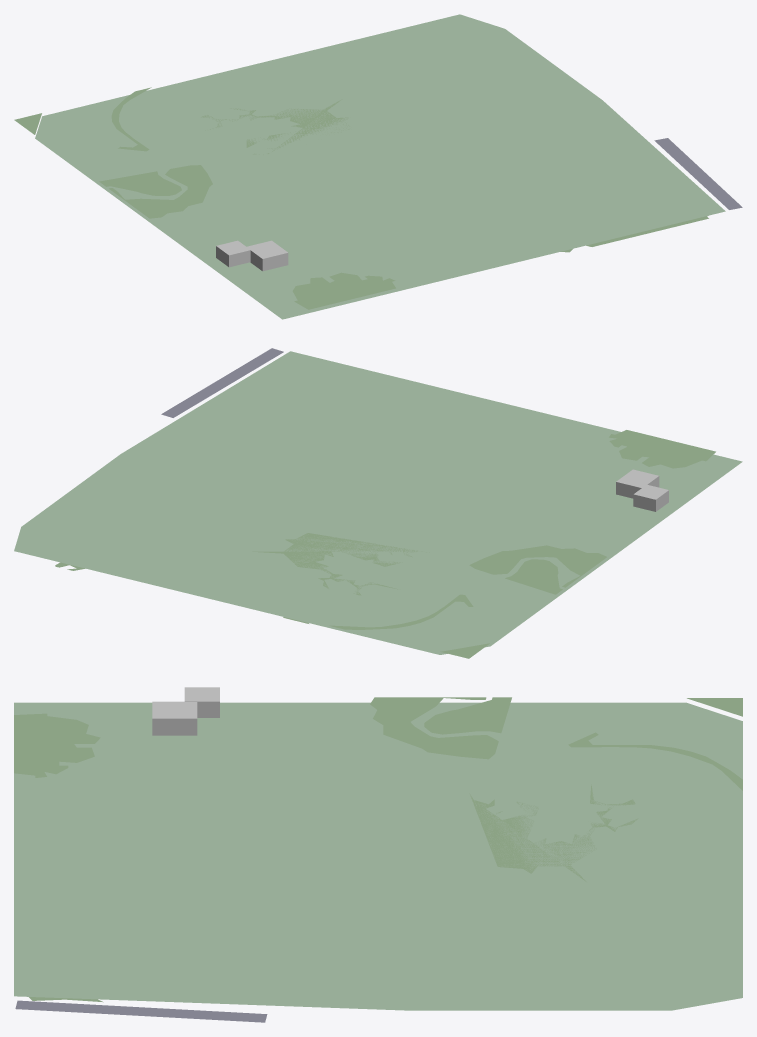
The model's file is 123_118_mid.glb.
3 renders of one model, top to bottom at view 1: azimuth 30°, elevation 25°; view 2: azimuth 150°, elevation 25°; view 3: azimuth 270°, elevation 25°, orthographic. The views are drawn at different scales.
Size of the model in its own units: 514 by 21.74 by 500.
